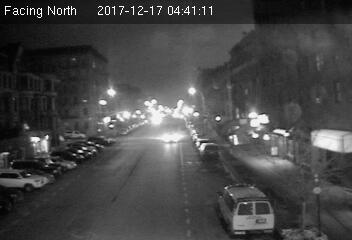police: (216, 181, 280, 237)
